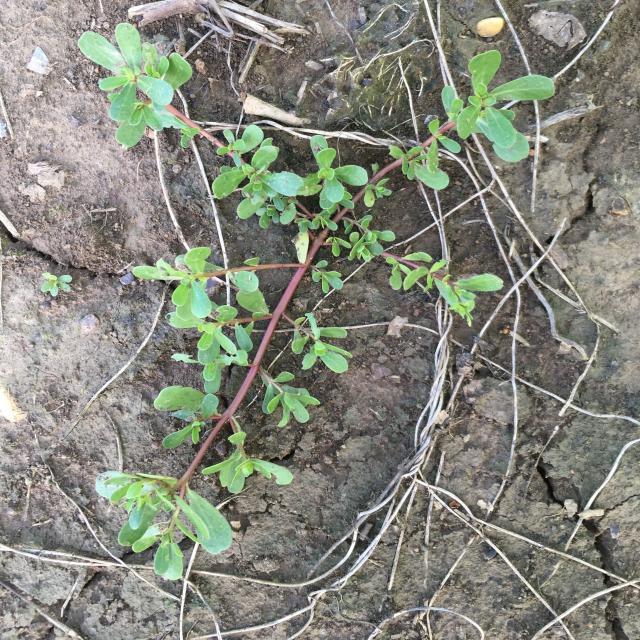Purslane: (77, 23, 557, 580), (41, 272, 72, 296)
